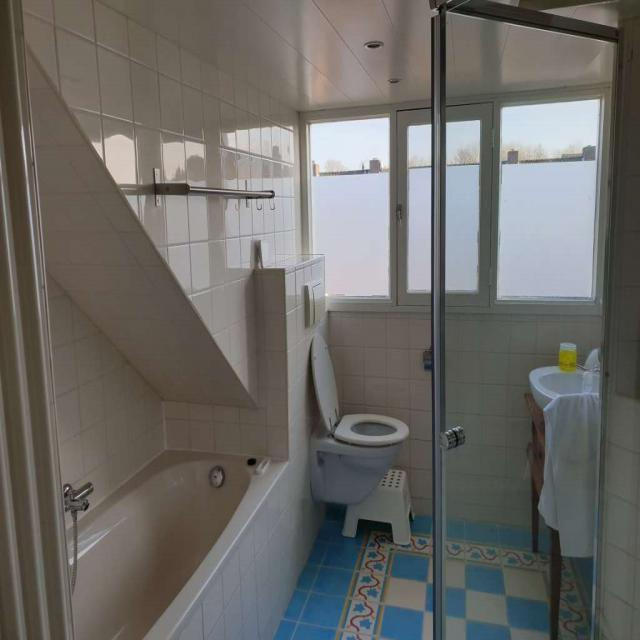bath: (61, 444, 290, 640)
douche: (430, 0, 629, 640)
toilet: (302, 276, 409, 506)
wastafel: (524, 391, 601, 640), (528, 348, 606, 415)
